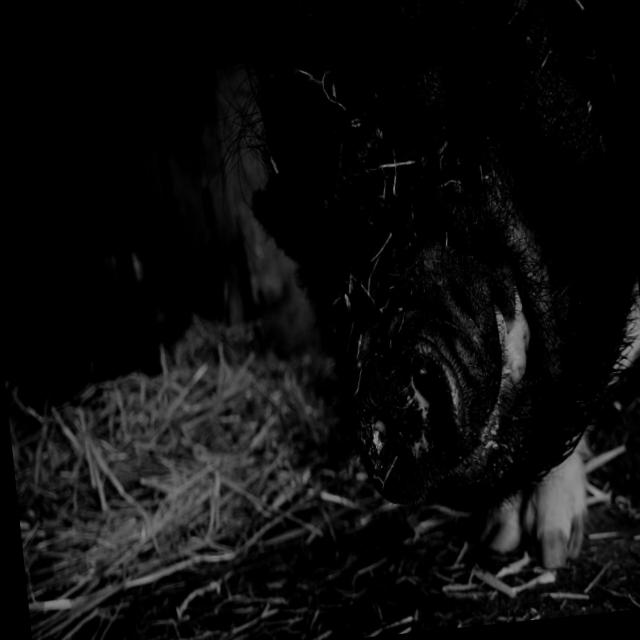pig: (253, 0, 637, 565)
